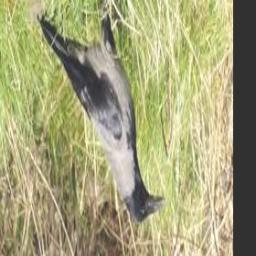Crow: (37, 0, 165, 223)
